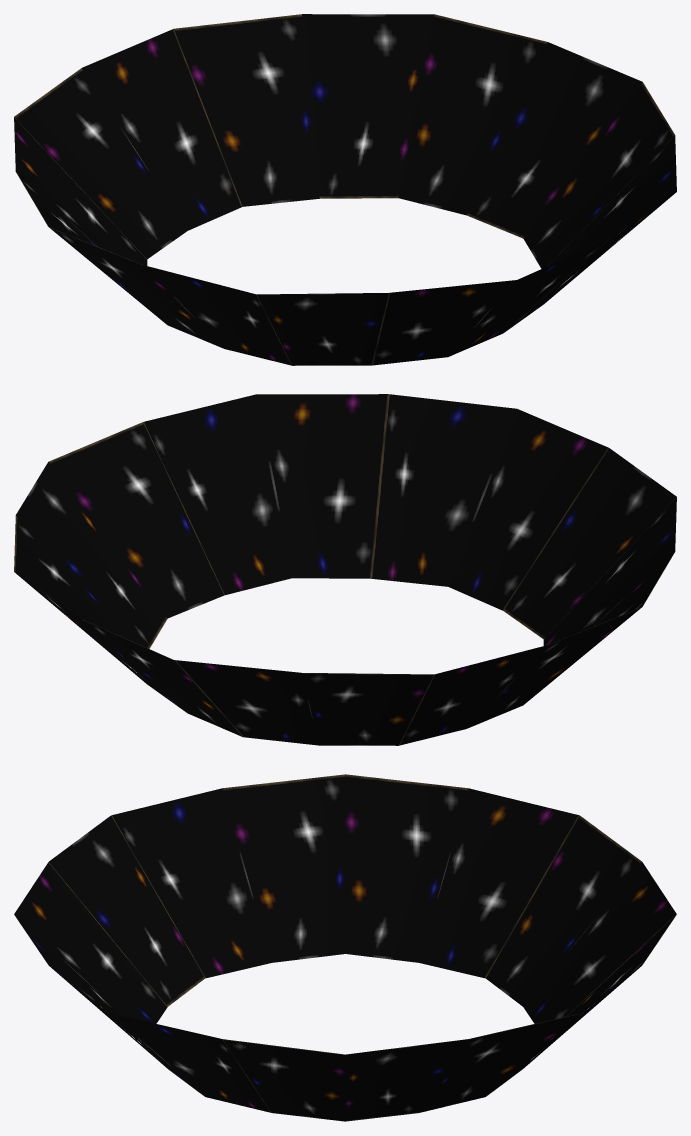
3 views of the same model, one above another, from view 1: azimuth 30°, elevation 25°; view 2: azimuth 150°, elevation 25°; view 3: azimuth 270°, elevation 25° (orthographic). The views are drawn at different scales.
Parts seen in each view (by area): view 1: T1L8M001_31; view 2: T1L8M001_31; view 3: T1L8M001_31.
Boxes of the visible parts, box(x1,y1,x2,y2) form: T1L8M001_31: box(14, 14, 676, 365); T1L8M001_31: box(14, 394, 676, 745); T1L8M001_31: box(14, 774, 676, 1121).
Bounding box in the file's own units: 2.87 × 0.5947 × 2.87.
